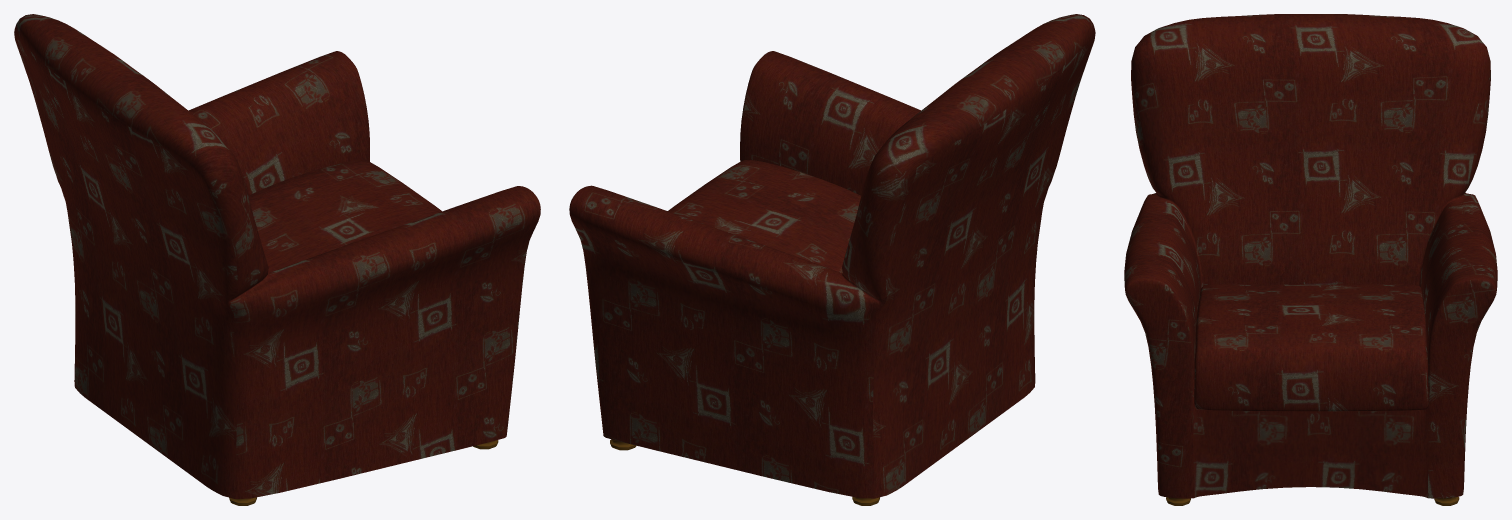
3 renders of one model, left to right at view 1: azimuth 30°, elevation 25°; view 2: azimuth 150°, elevation 25°; view 3: azimuth 270°, elevation 25°, orthographic. The views are drawn at different scales.
Parts seen in each view (by area): view 1: Object005_Material__2.001_0; view 2: Object005_Material__2.001_0; view 3: Object005_Material__2.001_0.
Part boxes in pixels (x1,y1,x2,y2): Object005_Material__2.001_0: [14, 14, 540, 498]; Object005_Material__2.001_0: [569, 14, 1095, 498]; Object005_Material__2.001_0: [1124, 14, 1497, 498].
Bounding box in the file's own units: 90.14 × 94.3 × 90.2.
Materials: 2 (1 with a texture image).
